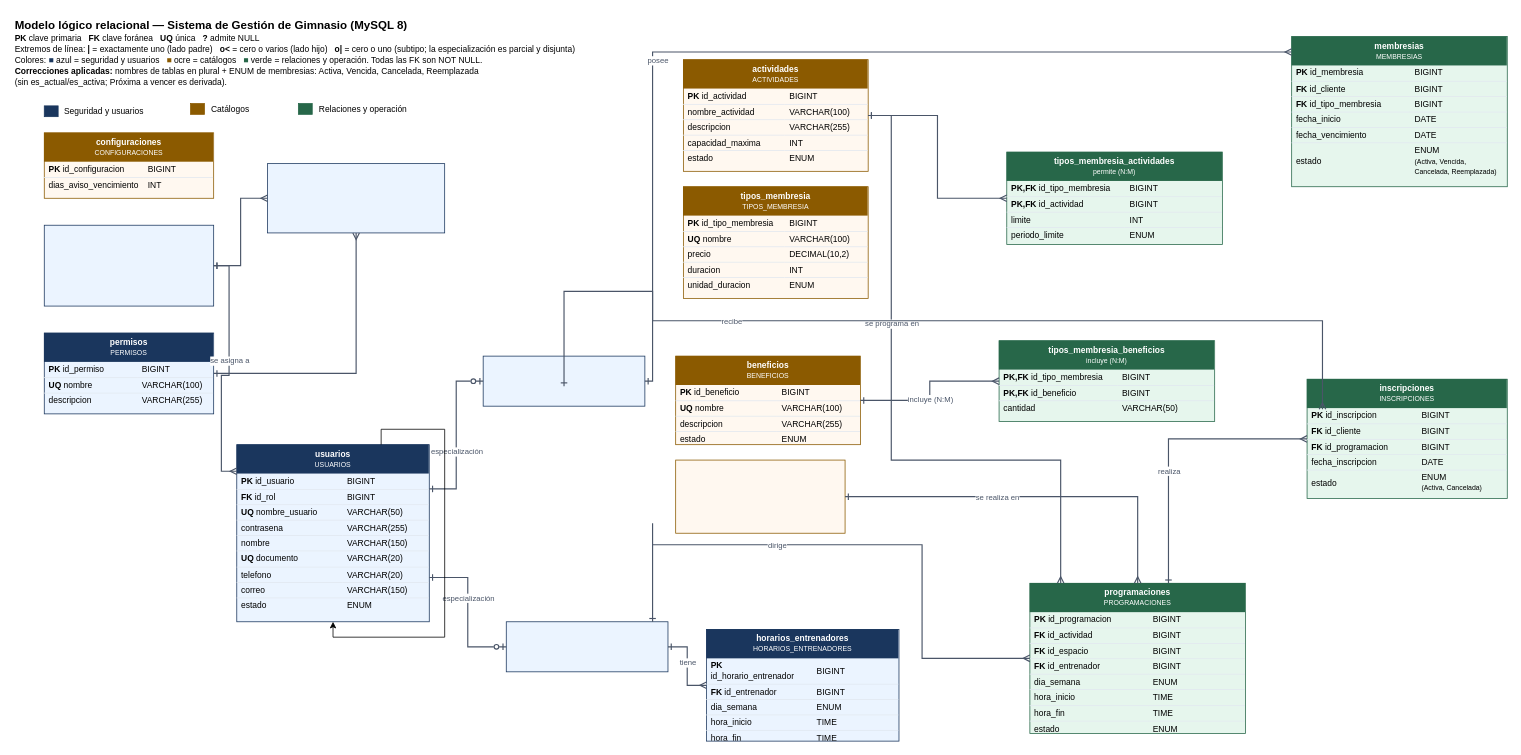
This 1521x755 diagram has some shape labels left out. Each missing label, with the centre of its shape:
"clientes CLIENTES PK,FK id_usuario BIGINT" goes at (563,380).
"entrenadores ENTRENADORES PK,FK id_usuario BIGINT" goes at (587,646).
"espacios ESPACIOS PK id_espacio BIGINT nombre VARCHAR(100) capacidad INT" goes at (760,496).
"roles ROLES PK id_rol BIGINT UQ nombre ENUM descripcion VARCHAR(255)" goes at (129,265).
"roles_permisos concede (N:M) PK,FK id_rol BIGINT PK,FK id_permiso BIGINT" goes at (356,198).
